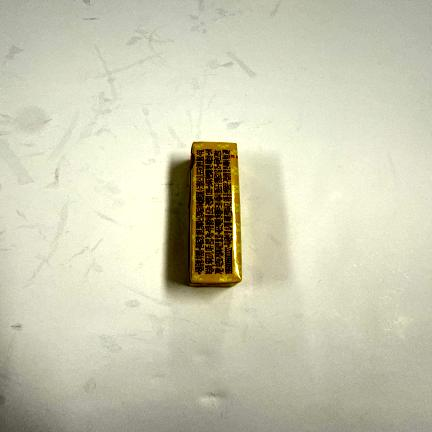gum_yellow: (189, 141, 239, 289)
